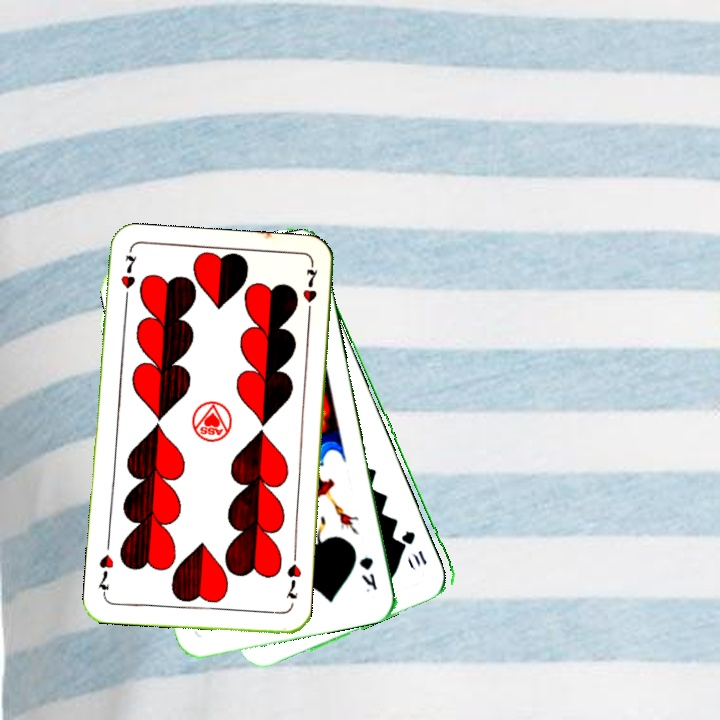G10: (400, 527, 430, 569)
GK: (355, 552, 380, 592)
H7: (117, 251, 140, 307), (281, 560, 304, 601)
